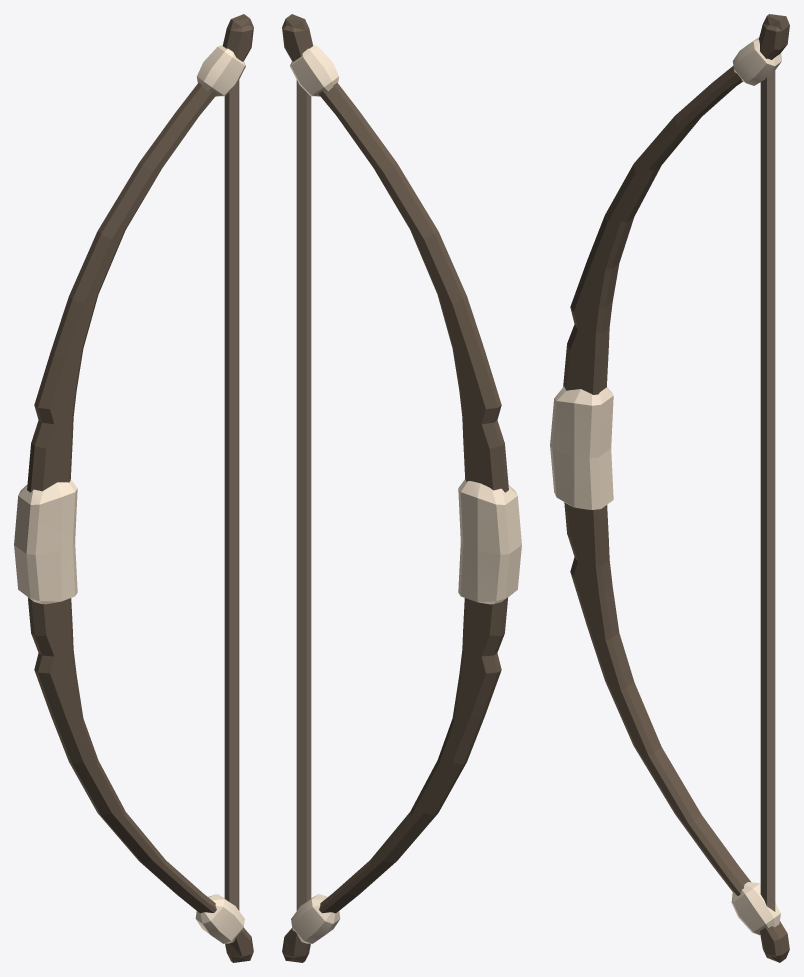
File: _BOW.fbx
The picture shows the model from 3 angles, left to right: view 1: azimuth 30°, elevation 25°; view 2: azimuth 150°, elevation 25°; view 3: azimuth 330°, elevation 25°; orthographic projection.
Visible parts, largest first — view 1: BOW_MAIN; view 2: BOW_MAIN; view 3: BOW_MAIN.
Boxes of the visible parts, x1,y1,x2,y2 form: BOW_MAIN: [14, 14, 253, 962]; BOW_MAIN: [282, 14, 521, 962]; BOW_MAIN: [550, 14, 789, 962].
Bounding box in the file's own units: 35.12 × 138 × 6.07.
